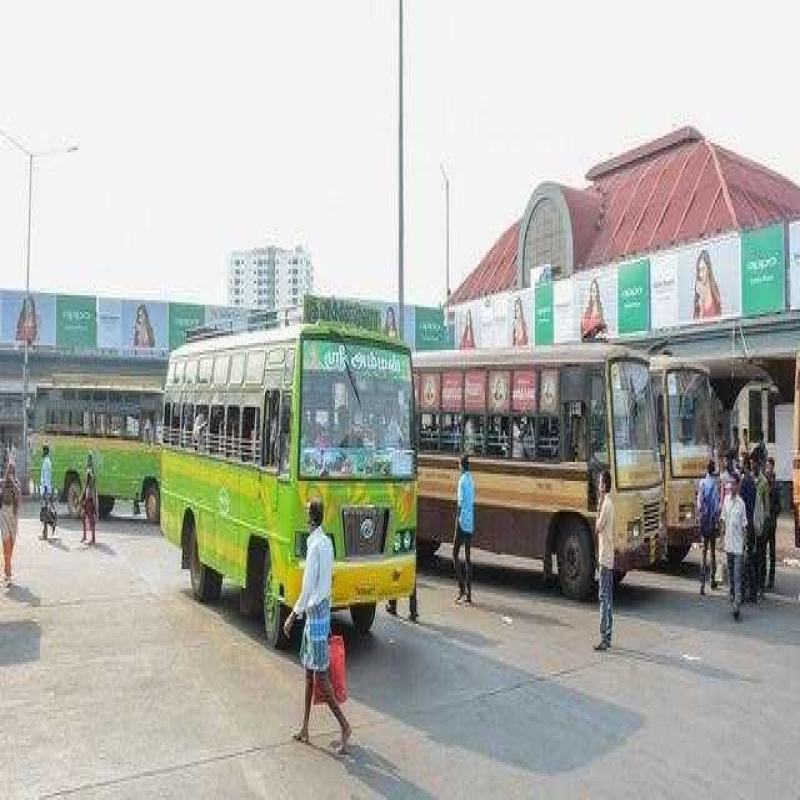bus: (156, 313, 451, 663), (421, 340, 694, 606)
